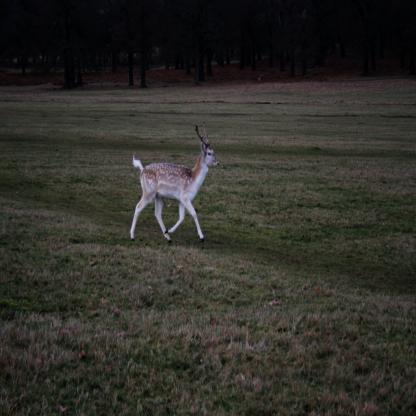Deer: (130, 123, 219, 244)
